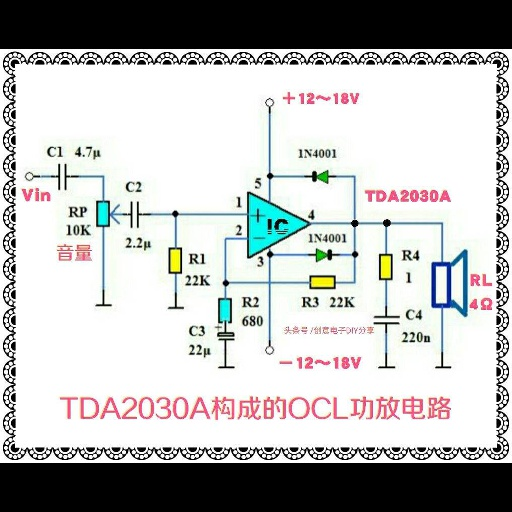amplifier: (245, 190, 311, 260)
capacitor: (53, 160, 74, 192), (128, 198, 145, 229), (370, 311, 402, 327)
firstdiode: (306, 167, 332, 186), (313, 245, 337, 264)
firstresistance: (303, 272, 343, 293), (164, 243, 184, 277), (215, 293, 236, 324), (377, 251, 395, 285)
loudspeaker: (426, 246, 470, 318)
secondpolarcapacitor: (211, 324, 239, 343)
